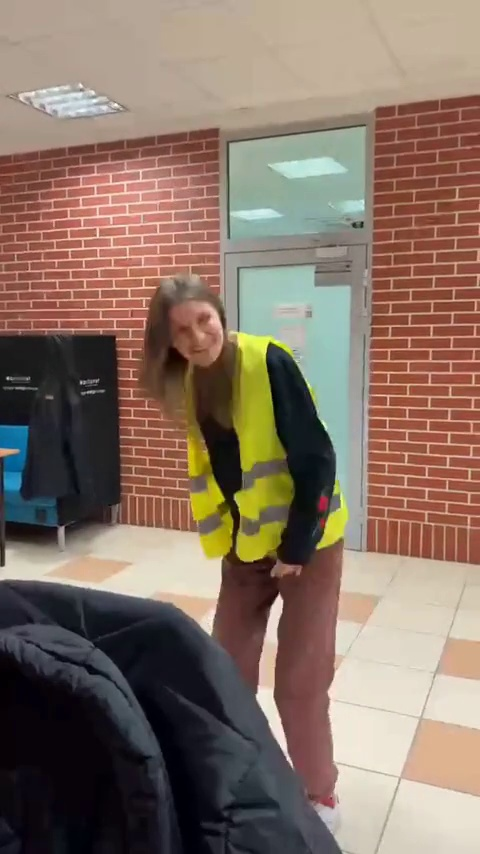vest: (145, 271, 363, 821)
